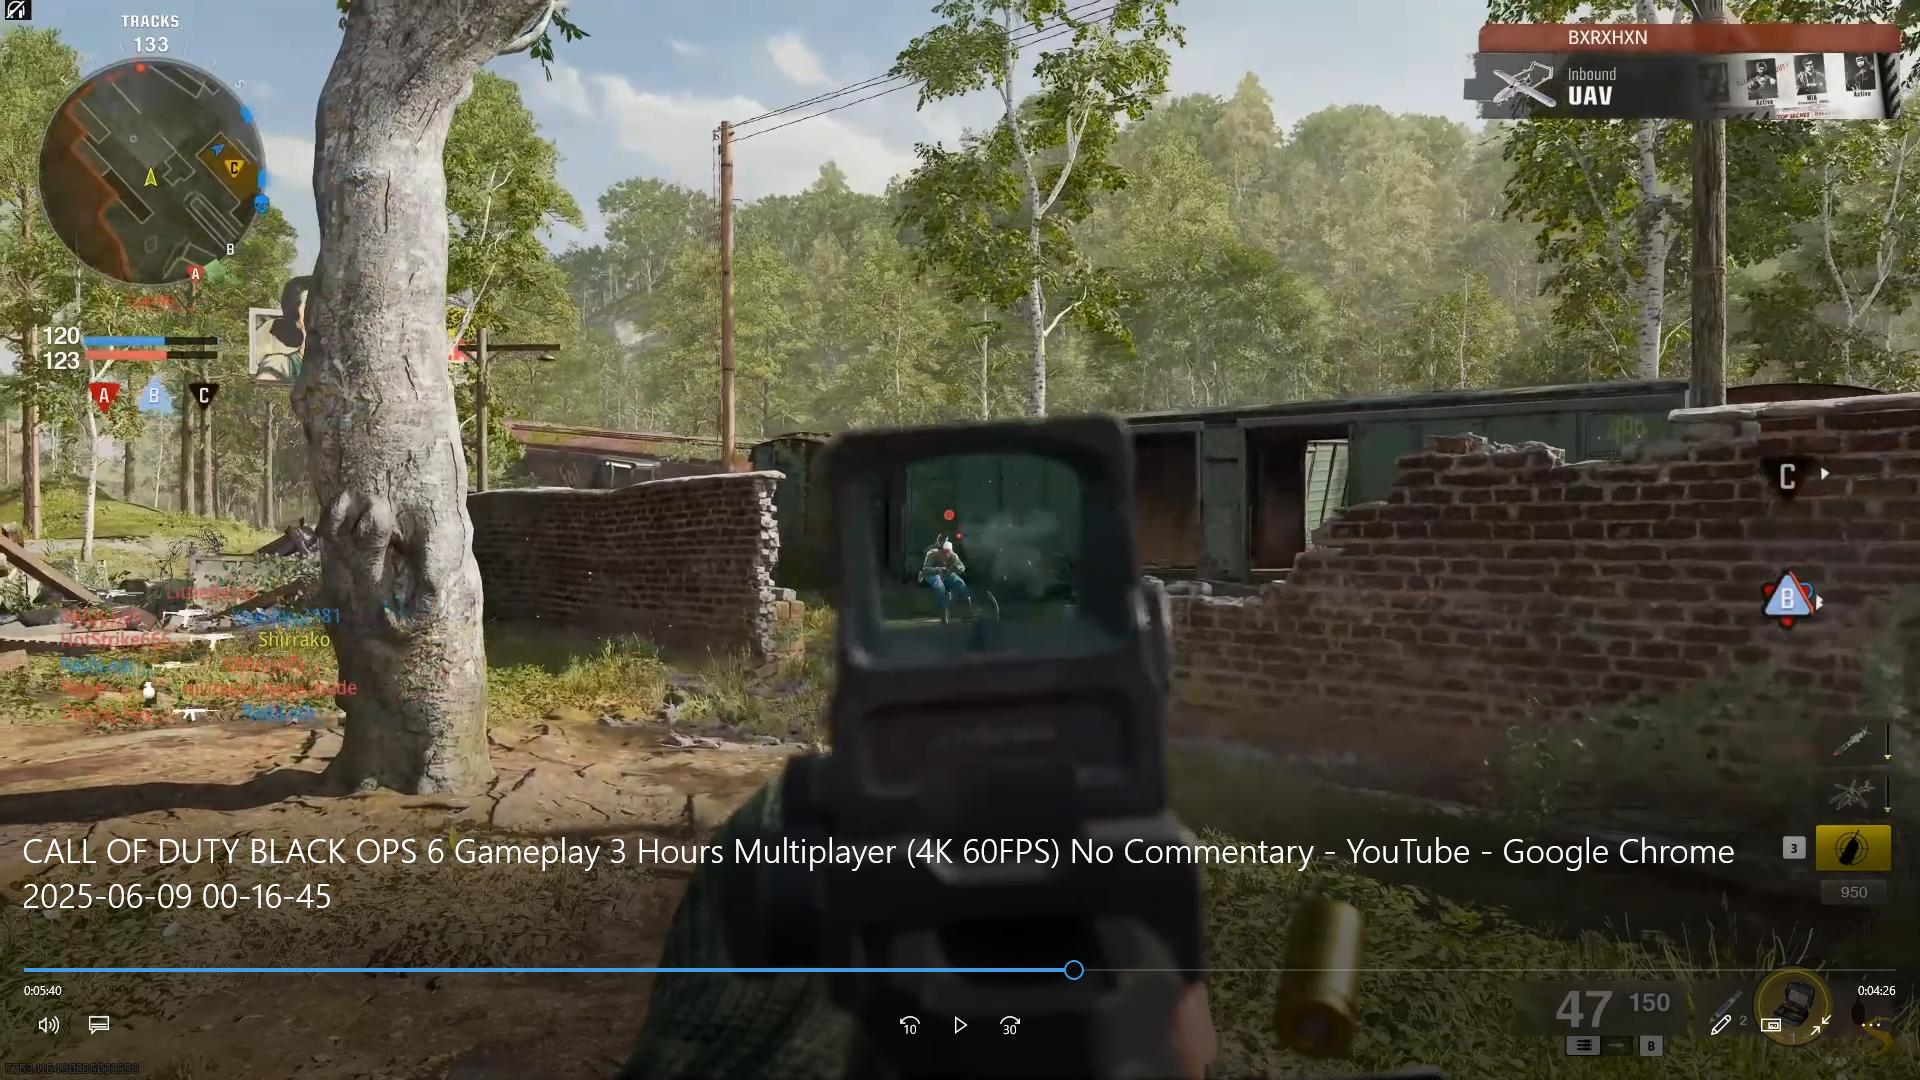Enemy: (918, 537, 972, 612)
